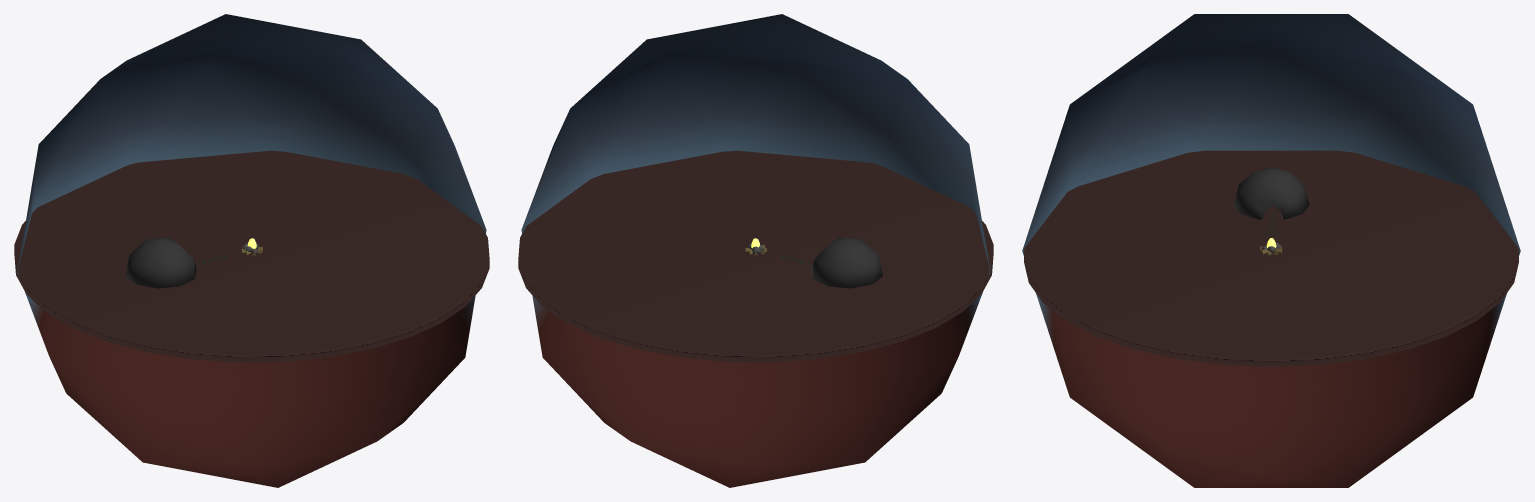
3 views of the same model, side by side, from view 1: azimuth 30°, elevation 25°; view 2: azimuth 150°, elevation 25°; view 3: azimuth 270°, elevation 25° (orthographic). The views are drawn at different scales.
Parts seen in each view (by area): view 1: envirosphere.005, ground.007, lodge.005; view 2: envirosphere.005, ground.007, lodge.005; view 3: envirosphere.005, ground.007, lodge.005.
Boxes of the visible parts, x1,y1,x2,y2 form: envirosphere.005: [17, 14, 486, 487]; ground.007: [14, 150, 489, 362]; lodge.005: [125, 237, 196, 288]; envirosphere.005: [521, 14, 990, 487]; ground.007: [518, 150, 993, 362]; lodge.005: [811, 237, 882, 288]; envirosphere.005: [1022, 14, 1520, 487]; ground.007: [1024, 150, 1518, 366]; lodge.005: [1233, 167, 1309, 219].
Size of the model in its own units: 13.58 by 13.69 by 13.69.
Materials: 8 (1 with a texture image).
